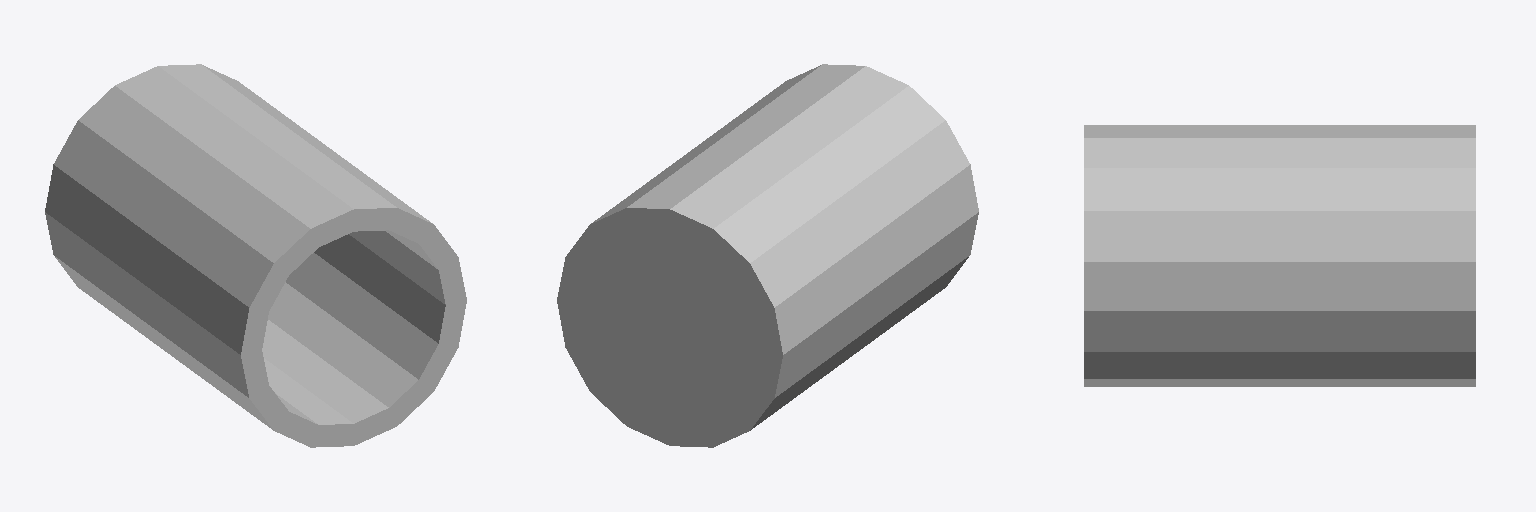
The model's file is barrel.obj.
3 renders of one model, left to right at view 1: azimuth 30°, elevation 25°; view 2: azimuth 150°, elevation 25°; view 3: azimuth 270°, elevation 25°, orthographic.
Parts seen in each view (by area): view 1: Cube; view 2: Cube; view 3: Cube.
Boxes of the visible parts, x1,y1,x2,y2 form: Cube: [45, 64, 466, 447]; Cube: [557, 64, 978, 447]; Cube: [1084, 125, 1475, 386].
Size of the model in its own units: 2 by 2 by 3.